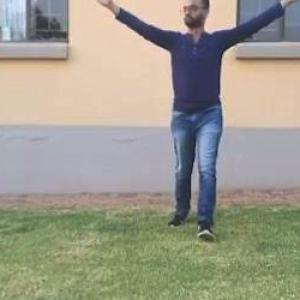takeoff: (69, 0, 299, 256)
